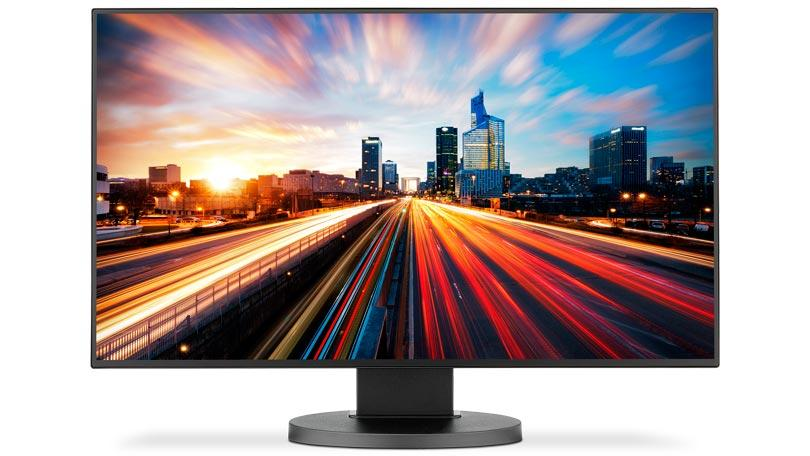monitor: (71, 1, 746, 456)
